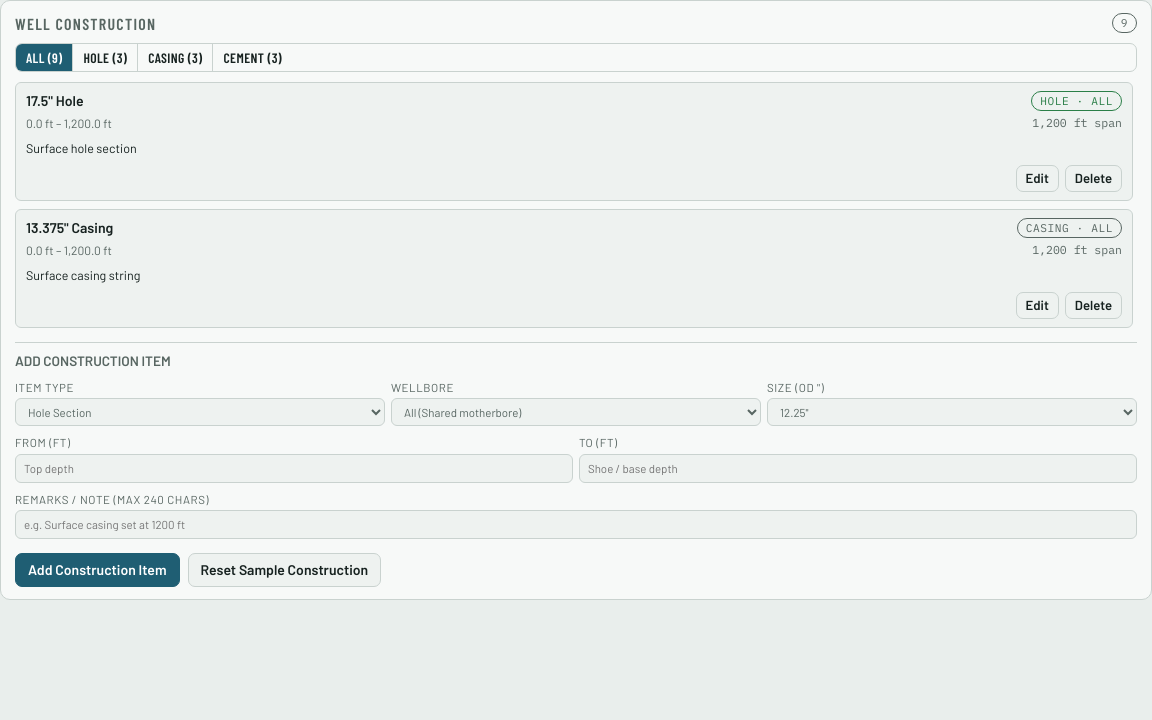
Scenario: <ConstructionEditor> › adding a construction item › displays fit-check warning when adding casing incompatible with hole size
Select "Casing String" in the dropdown named "construction item type" at (200, 412), box [15,398,385,426]
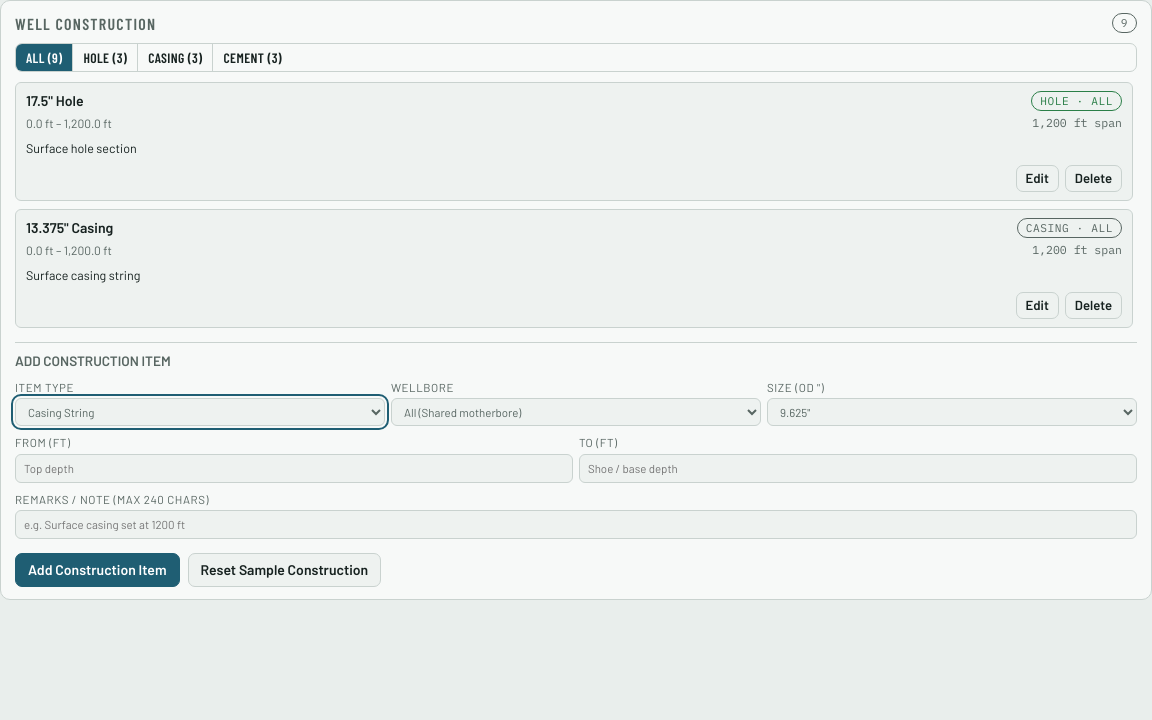
Select "16\"" in the dropdown named "casing or cement size in inches" at (952, 412), box [767,398,1137,426]
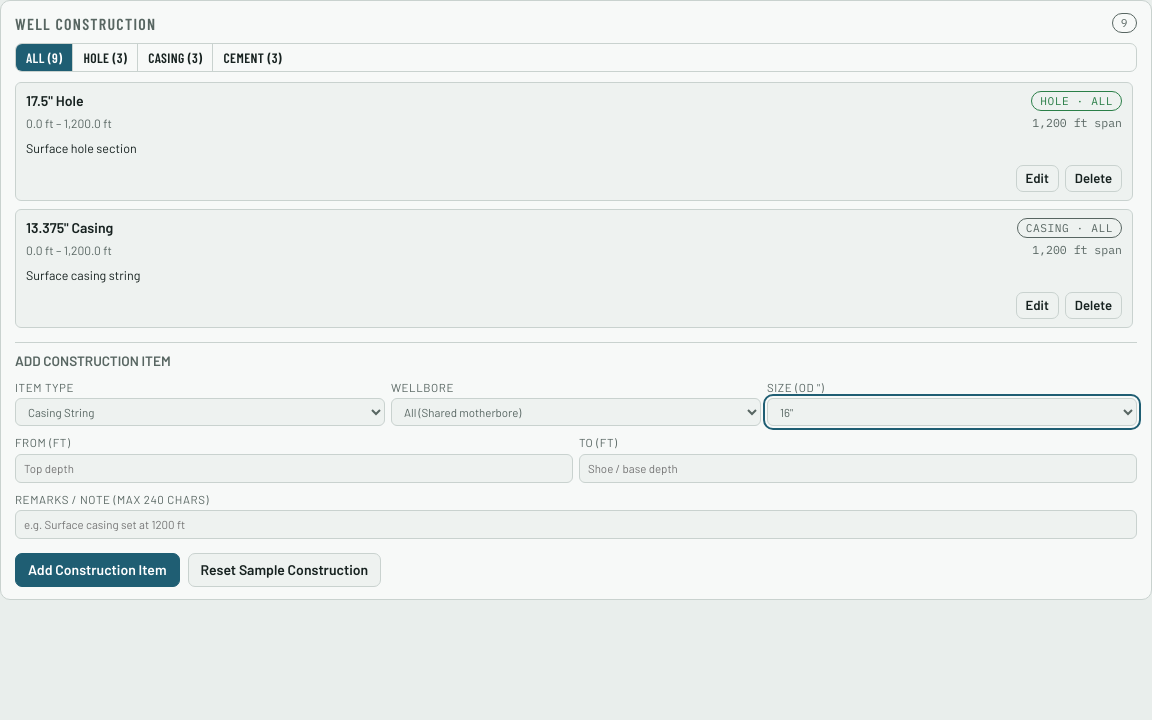
Note: Section covered by hole-2 (size 12.25)
Type "1500" into the number field named "from depth" at (294, 468), box [15,454,573,483]
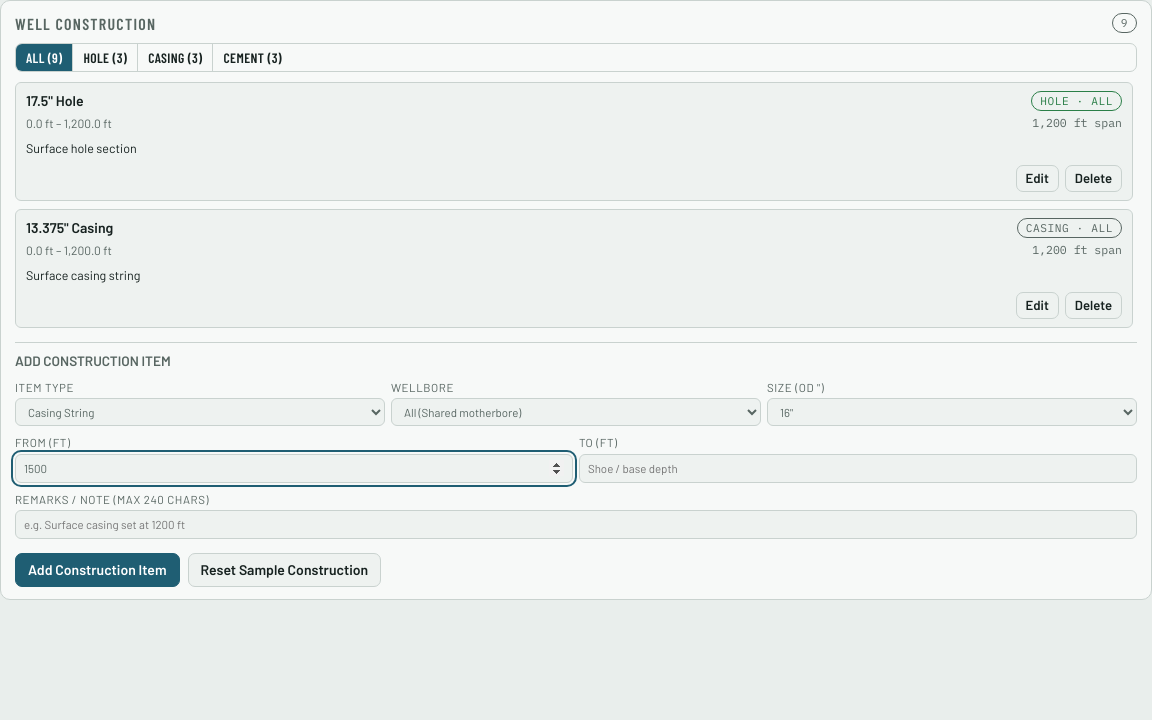
Type "3000" into the number field named "to depth" at (858, 468), box [579,454,1137,483]
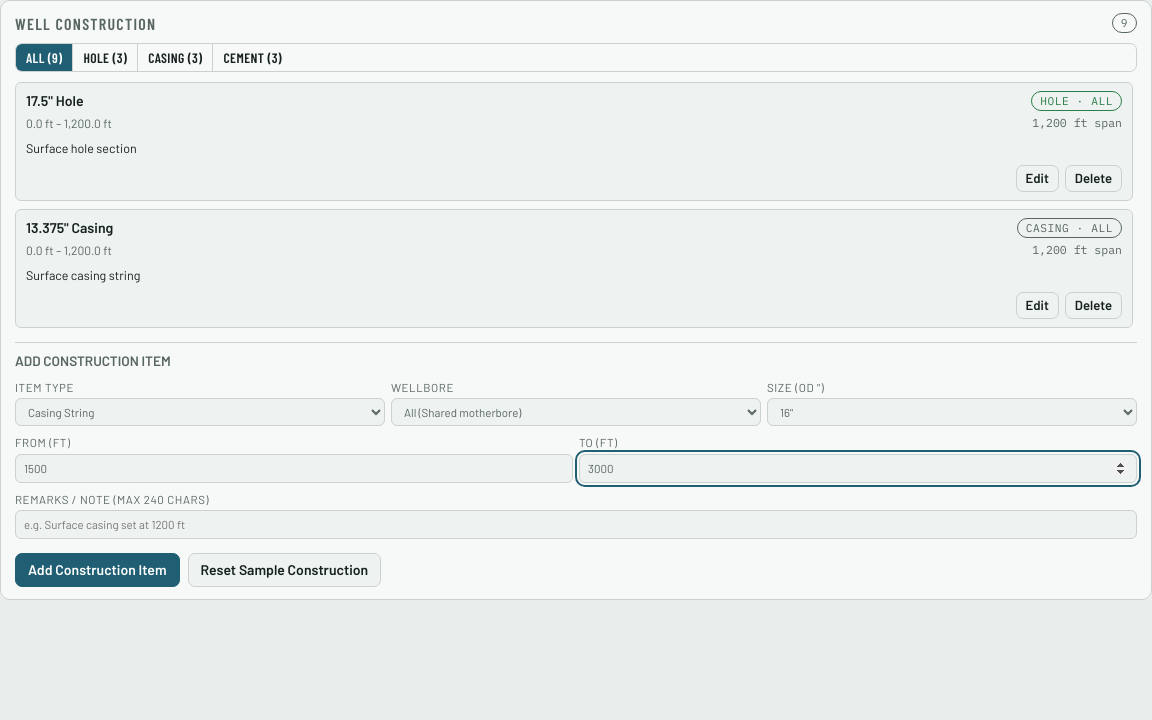
Click the button "Add Construction Item" at (97, 570), box [15,553,180,587]
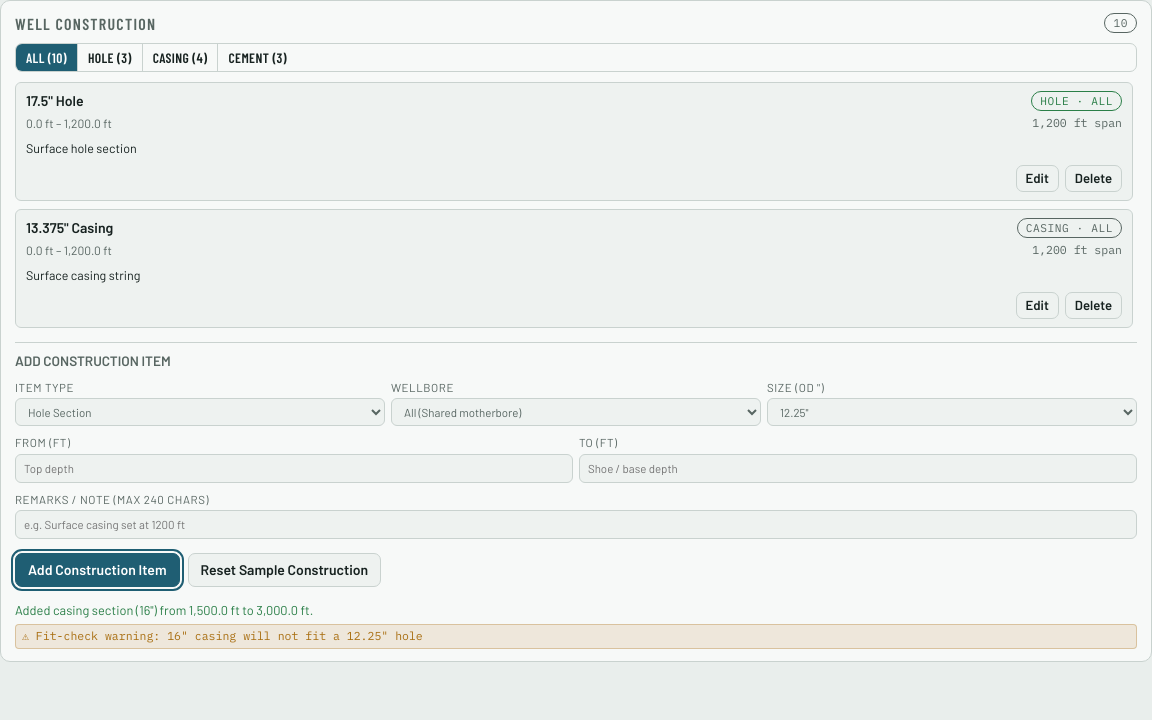
Check: the text "⚠ Fit-check warning: 16\" casing will not fit a 12.25\" hole" is shown, box [15,624,1137,649]
